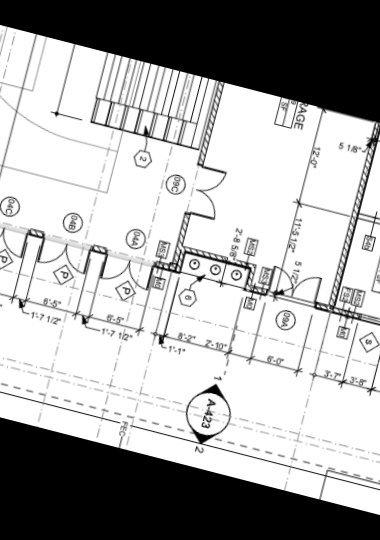door: (325, 122, 380, 310), (194, 81, 227, 169)
double door: (185, 161, 231, 225), (265, 264, 325, 311), (33, 234, 93, 278), (97, 250, 156, 294), (0, 218, 30, 261)
wall: (179, 241, 259, 274), (169, 211, 194, 274), (242, 254, 265, 294), (248, 283, 273, 301)
